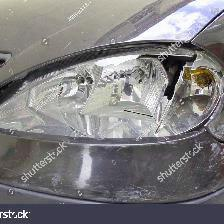head_lamp: (32, 47, 197, 137)
